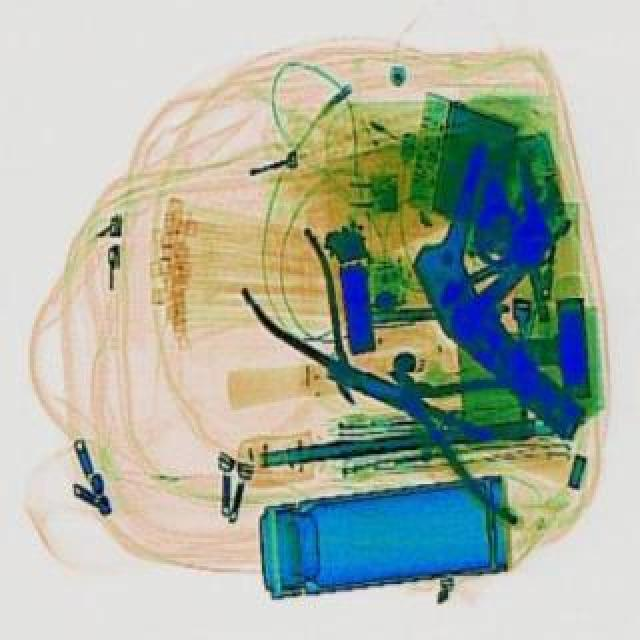wrench: (344, 312, 592, 524), (224, 224, 402, 418)
